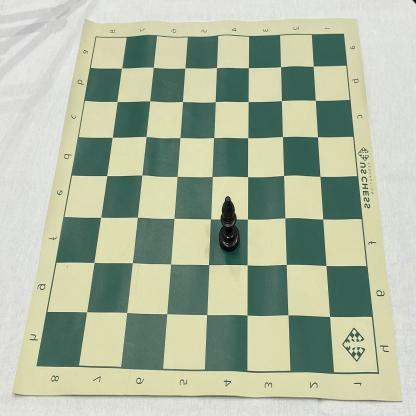black-bishop: (218, 195, 240, 253)
